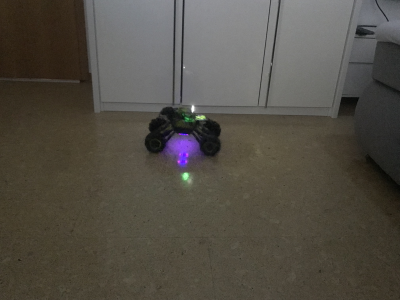remote control car: (145, 102, 223, 158)
